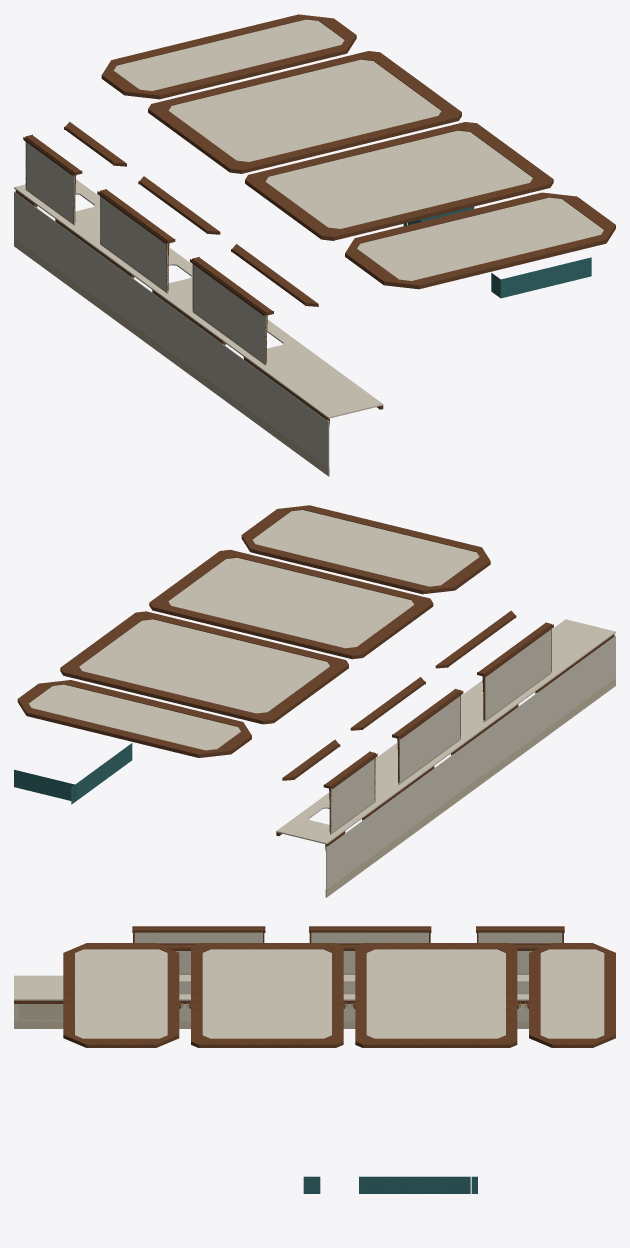
The model's file is AST-AQU-016_finish_envelope.glb.
3 renders of one model, top to bottom at view 1: azimuth 30°, elevation 25°; view 2: azimuth 150°, elevation 25°; view 3: azimuth 270°, elevation 25°, orthographic. The views are drawn at different scales.
Parts seen in each view (by area): view 1: GPF_BATCH_012_ivory_enamel, GPF_BATCH_034_ivory_enamel, GPF_BATCH_038_ivory_enamel, GPF_BATCH_042_ivory_enamel, GPF_BATCH_030_ivory_enamel, GPF_BATCH_032_warm_walnut, GPF_BATCH_040_warm_walnut, GPF_BATCH_044_warm_walnut, GPF_BATCH_036_warm_walnut, GPF_BATCH_007_ivory_enamel, GPF_BATCH_000_warm_stone, GPF_BATCH_002_ivory_enamel (+8 smaller); view 2: GPF_BATCH_012_ivory_enamel, GPF_BATCH_034_ivory_enamel, GPF_BATCH_038_ivory_enamel, GPF_BATCH_042_ivory_enamel, GPF_BATCH_030_ivory_enamel, GPF_BATCH_032_warm_walnut, GPF_BATCH_040_warm_walnut, GPF_BATCH_044_warm_walnut, GPF_BATCH_007_ivory_enamel, GPF_BATCH_000_warm_stone, GPF_BATCH_036_warm_walnut, GPF_BATCH_002_ivory_enamel (+9 smaller); view 3: GPF_BATCH_034_ivory_enamel, GPF_BATCH_038_ivory_enamel, GPF_BATCH_042_ivory_enamel, GPF_BATCH_030_ivory_enamel, GPF_BATCH_012_ivory_enamel, GPF_BATCH_032_warm_walnut, GPF_BATCH_040_warm_walnut, GPF_BATCH_044_warm_walnut, GPF_BATCH_036_warm_walnut, GPF_BATCH_027_aquatic_edge_tile, GPF_BATCH_007_ivory_enamel, GPF_BATCH_002_ivory_enamel (+10 smaller).
Boxes of the visible parts, left/top/right/bottom form: GPF_BATCH_012_ivory_enamel: left=14, top=179, right=383, bottom=467; GPF_BATCH_034_ivory_enamel: left=168, top=59, right=441, bottom=161; GPF_BATCH_038_ivory_enamel: left=265, top=130, right=532, bottom=228; GPF_BATCH_042_ivory_enamel: left=357, top=197, right=603, bottom=280; GPF_BATCH_030_ivory_enamel: left=114, top=19, right=344, bottom=90; GPF_BATCH_032_warm_walnut: left=111, top=14, right=379, bottom=105; GPF_BATCH_040_warm_walnut: left=248, top=122, right=553, bottom=240; GPF_BATCH_044_warm_walnut: left=355, top=192, right=615, bottom=289; GPF_BATCH_036_warm_walnut: left=241, top=52, right=461, bottom=173; GPF_BATCH_007_ivory_enamel: left=100, top=196, right=167, bottom=290; GPF_BATCH_000_warm_stone: left=14, top=238, right=329, bottom=476; GPF_BATCH_002_ivory_enamel: left=25, top=142, right=74, bottom=222; GPF_BATCH_012_ivory_enamel: left=276, top=619, right=615, bottom=889; GPF_BATCH_034_ivory_enamel: left=79, top=619, right=329, bottom=713; GPF_BATCH_038_ivory_enamel: left=168, top=557, right=414, bottom=648; GPF_BATCH_042_ivory_enamel: left=252, top=510, right=479, bottom=586; GPF_BATCH_030_ivory_enamel: left=29, top=684, right=240, bottom=750; GPF_BATCH_032_warm_walnut: left=17, top=666, right=262, bottom=757; GPF_BATCH_040_warm_walnut: left=149, top=549, right=429, bottom=658; GPF_BATCH_044_warm_walnut: left=241, top=505, right=481, bottom=594; GPF_BATCH_007_ivory_enamel: left=398, top=696, right=460, bottom=781; GPF_BATCH_000_warm_stone: left=325, top=678, right=615, bottom=897; GPF_BATCH_036_warm_walnut: left=61, top=611, right=345, bottom=667; GPF_BATCH_002_ivory_enamel: left=330, top=759, right=375, bottom=832; GPF_BATCH_034_ivory_enamel: left=366, top=949, right=505, bottom=1038; GPF_BATCH_038_ivory_enamel: left=202, top=949, right=331, bottom=1038; GPF_BATCH_042_ivory_enamel: left=75, top=949, right=167, bottom=1038; GPF_BATCH_030_ivory_enamel: left=540, top=949, right=604, bottom=1038; GPF_BATCH_012_ivory_enamel: left=14, top=932, right=528, bottom=1021; GPF_BATCH_032_warm_walnut: left=498, top=946, right=615, bottom=1047; GPF_BATCH_040_warm_walnut: left=189, top=946, right=343, bottom=1047; GPF_BATCH_044_warm_walnut: left=63, top=952, right=180, bottom=1047; GPF_BATCH_036_warm_walnut: left=343, top=946, right=509, bottom=1047; GPF_BATCH_027_aquatic_edge_tile: left=359, top=1176, right=477, bottom=1193; GPF_BATCH_007_ivory_enamel: left=311, top=932, right=428, bottom=973; GPF_BATCH_002_ivory_enamel: left=478, top=932, right=562, bottom=973.
Bounding box in the file's own units: 45.52 × 16.76 × 62.32.
Materials: 6 (5 with a texture image).
